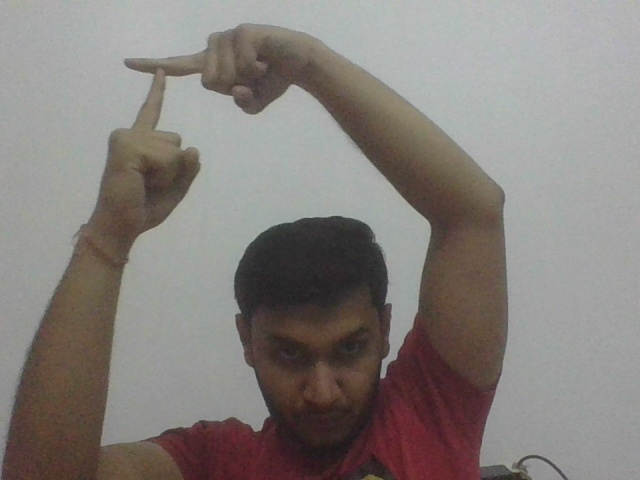T: (115, 43, 195, 125)
